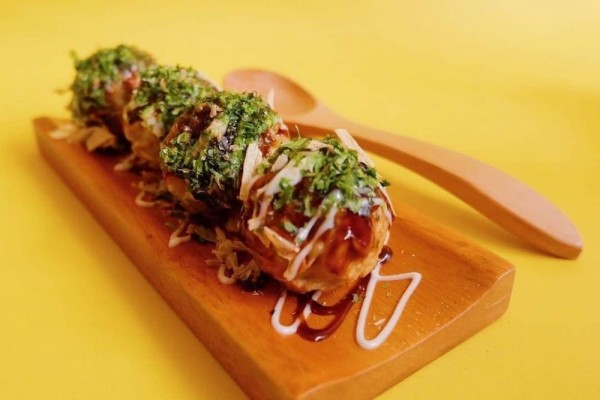takoyaki: (41, 32, 483, 358)
